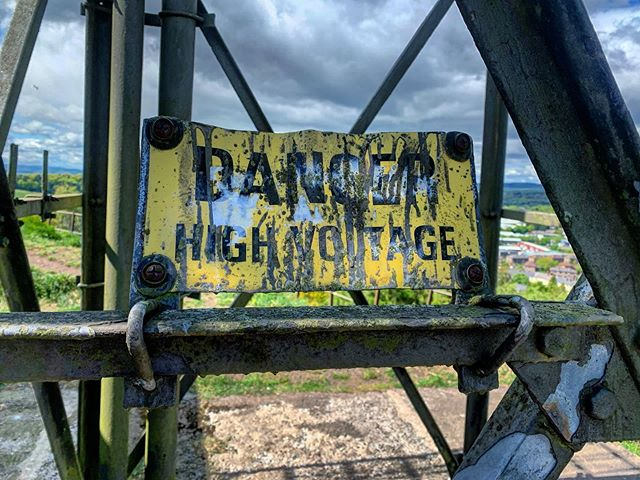sign: (130, 117, 500, 306)
